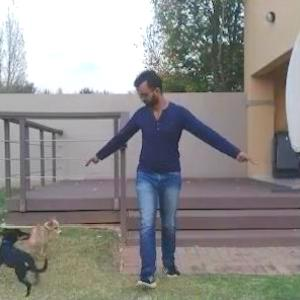land: (90, 71, 263, 280)
